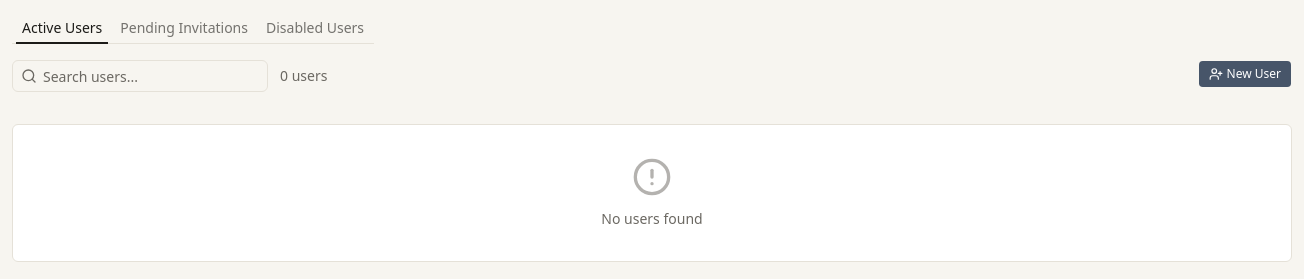
Scenario: AdminUserList permission surface › offers Delete rather than Disable on an invitation nobody has accepted
The width and height of the screenshot is (1304, 279).
Click the tab "Pending Invitations" at {"x": 184, "y": 28}, box x1=113 y1=16 x2=255 y2=40
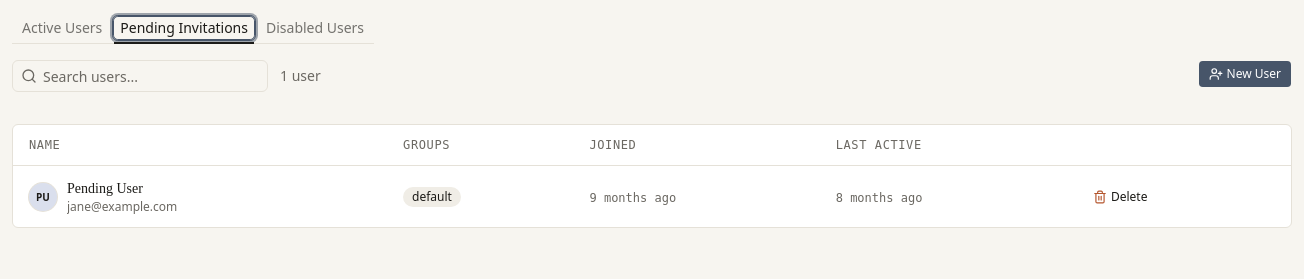
Now the link "Pending User" is shown, box x1=67 y1=181 x2=143 y2=196
Now the button "Delete" is shown, box x1=1082 y1=182 x2=1158 y2=210
